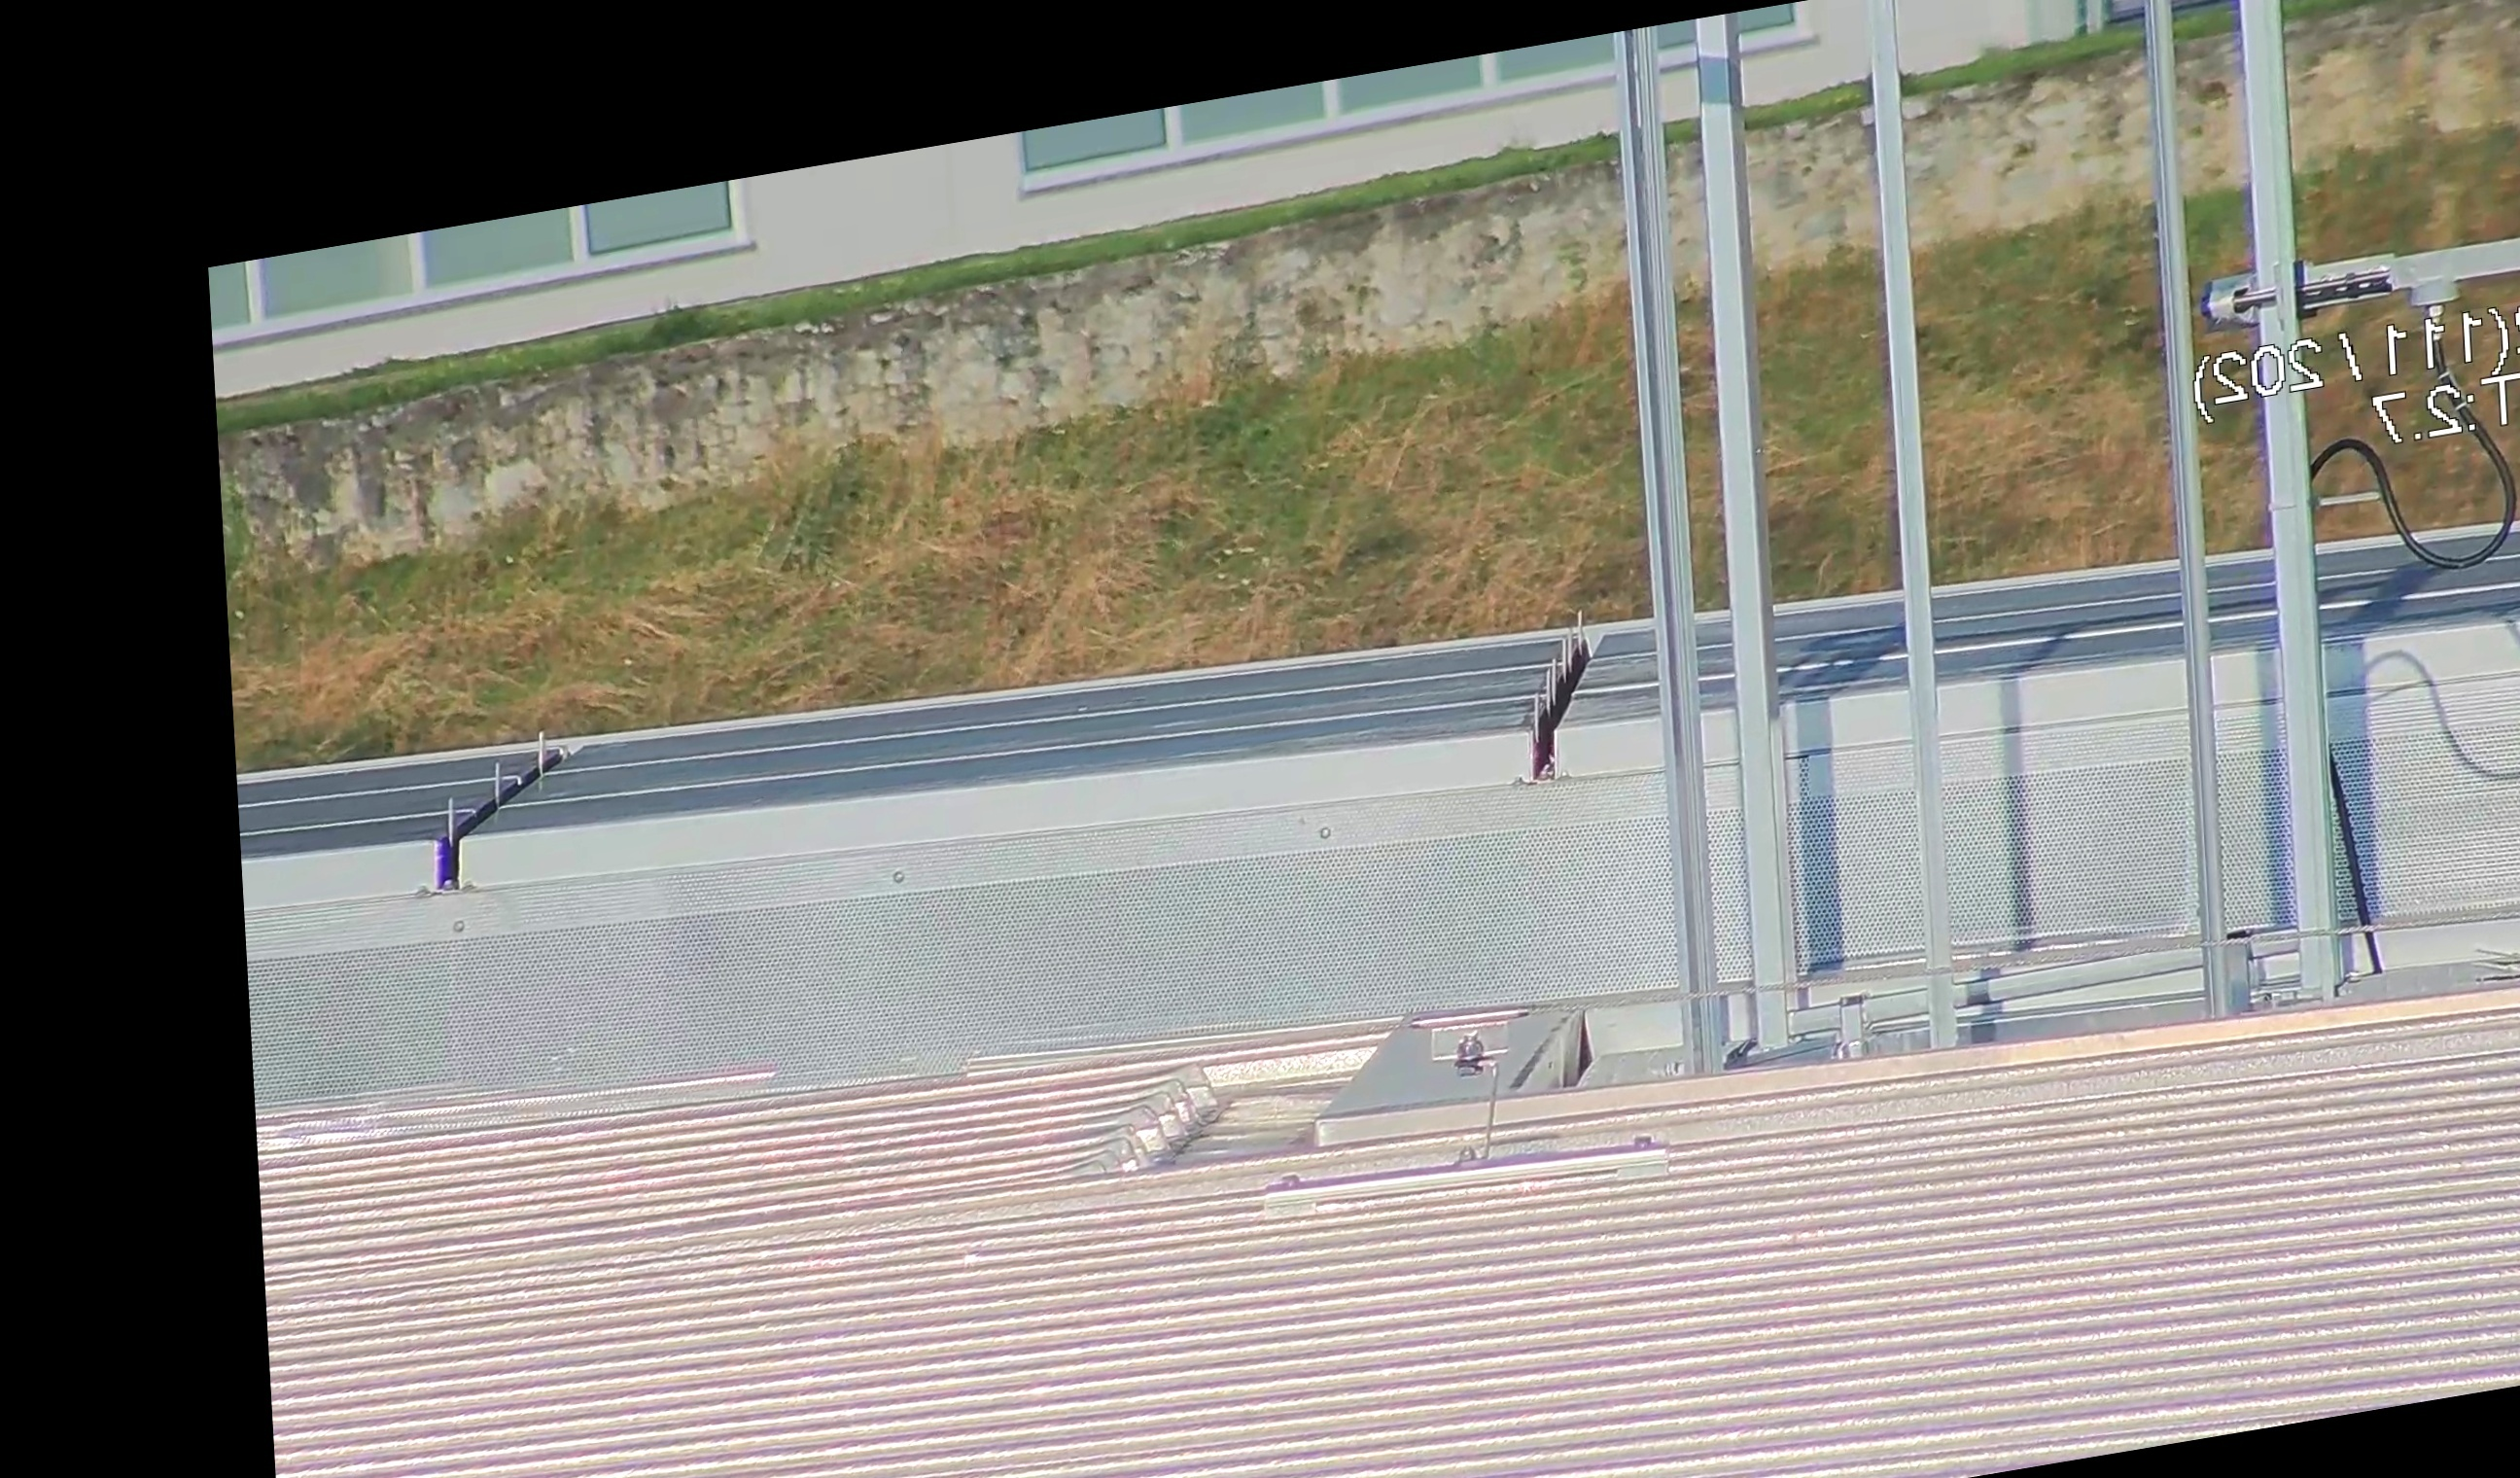Other: (1502, 596, 1627, 788)
